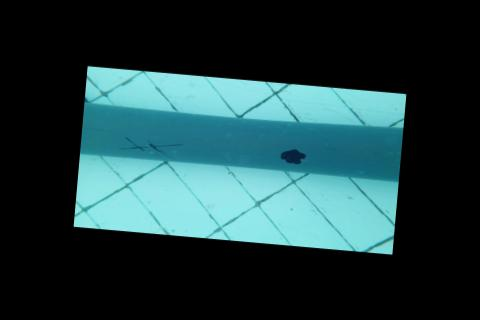kebocoran: (278, 145, 307, 165)
keretakan: (119, 135, 183, 158)
